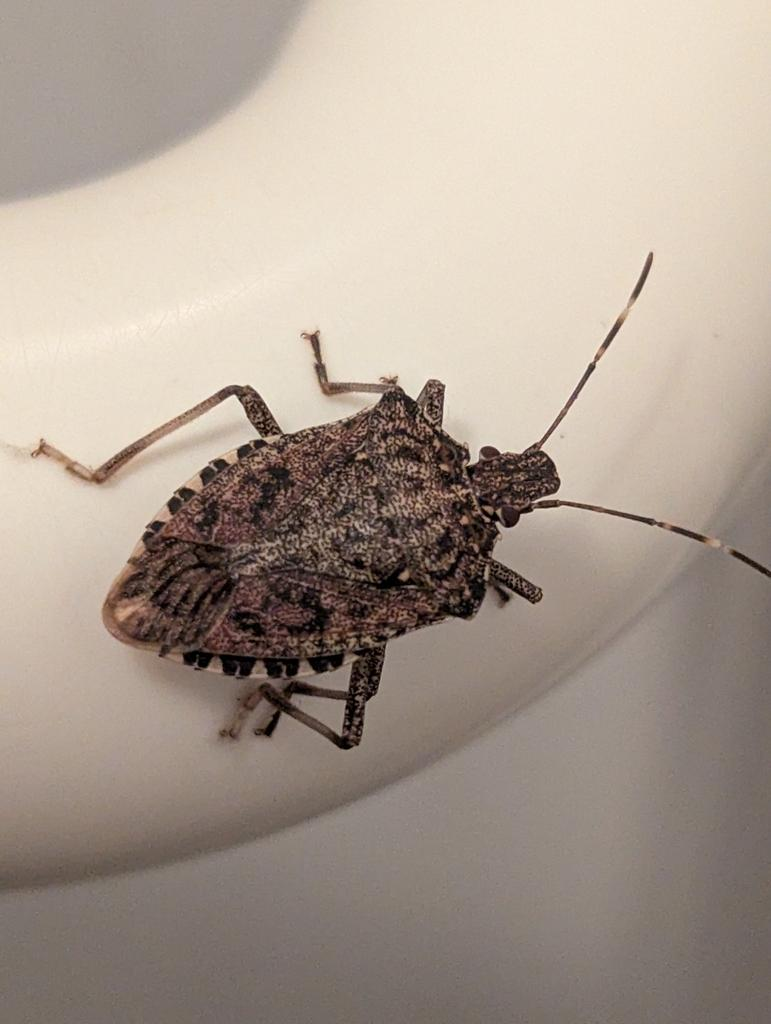stink_bugs: (0, 212, 771, 834)
